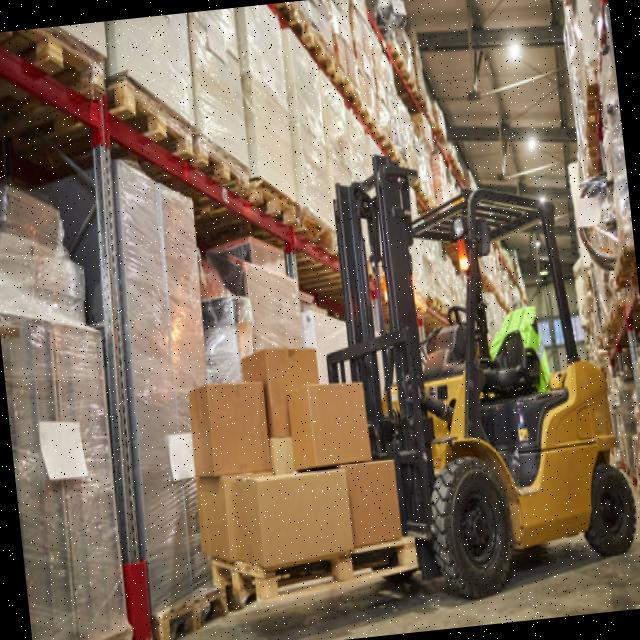Wooden-Pallets: (199, 526, 424, 615), (109, 74, 194, 168), (195, 128, 253, 208), (250, 173, 307, 239)
